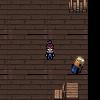Hide: (66, 0, 88, 15)
Obstacle: (51, 80, 80, 100)
Victim: (42, 37, 57, 60)
Win: (68, 52, 88, 74)
